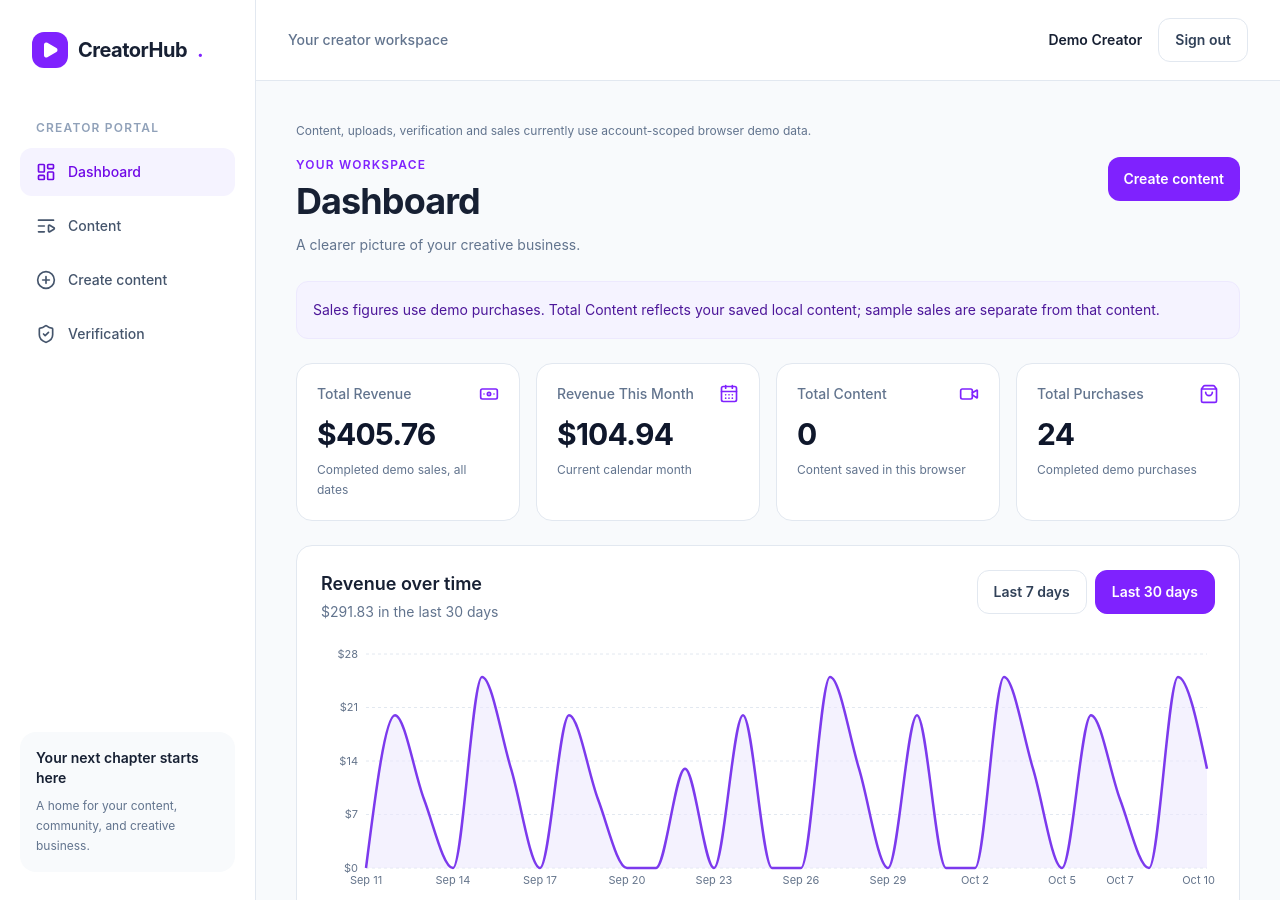
Test: dashboard overview › changes the chart range and provides an accessible data table
The image size is (1280, 900).
Step 1. Click the button "Last 7 days" → (1032, 592), box [976, 570, 1087, 614]
(page scrolled)
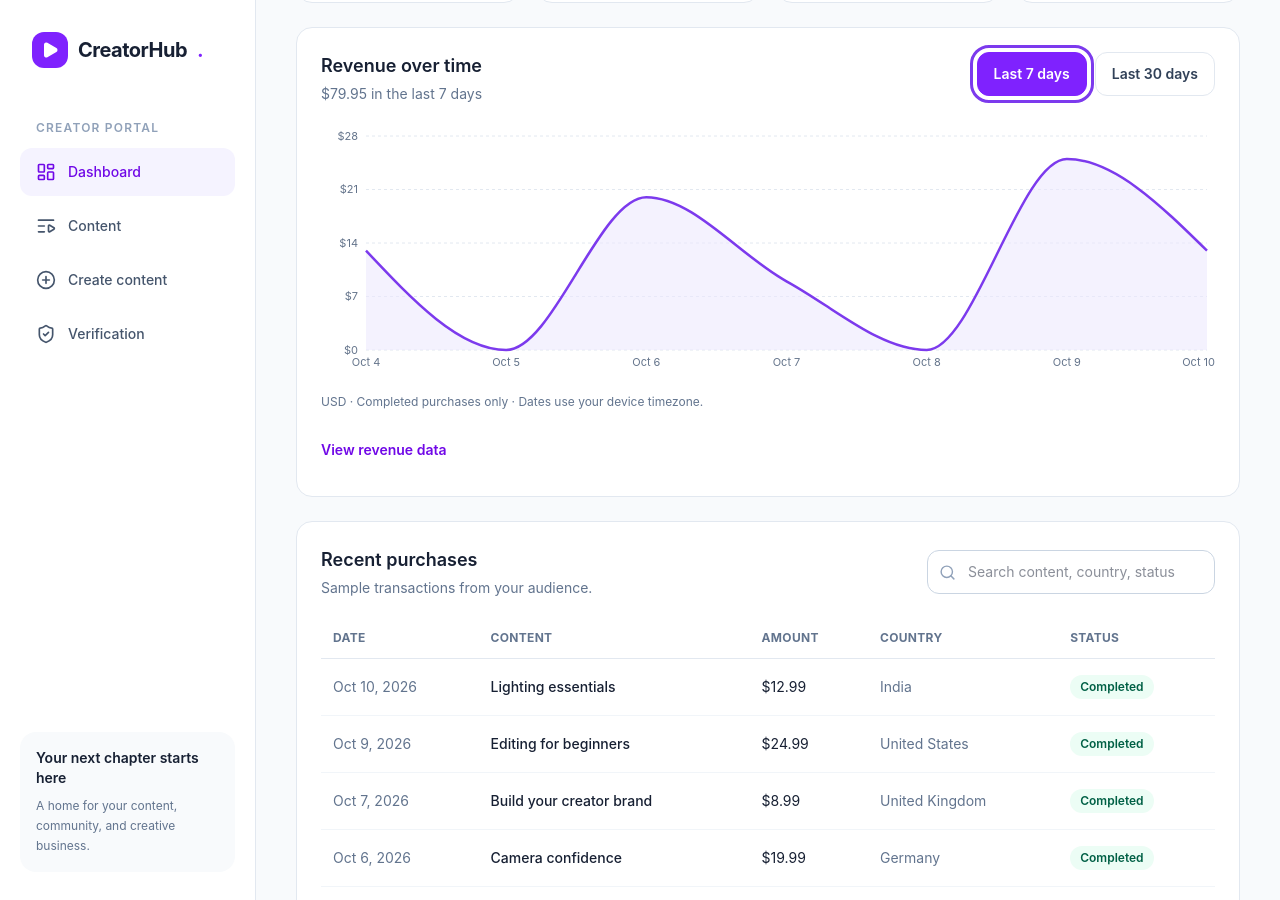
Check: the button "Last 7 days" is pressed, box [976, 52, 1087, 96]
Step 2. Click the heading "View revenue data" → (384, 450), box [321, 441, 446, 458]
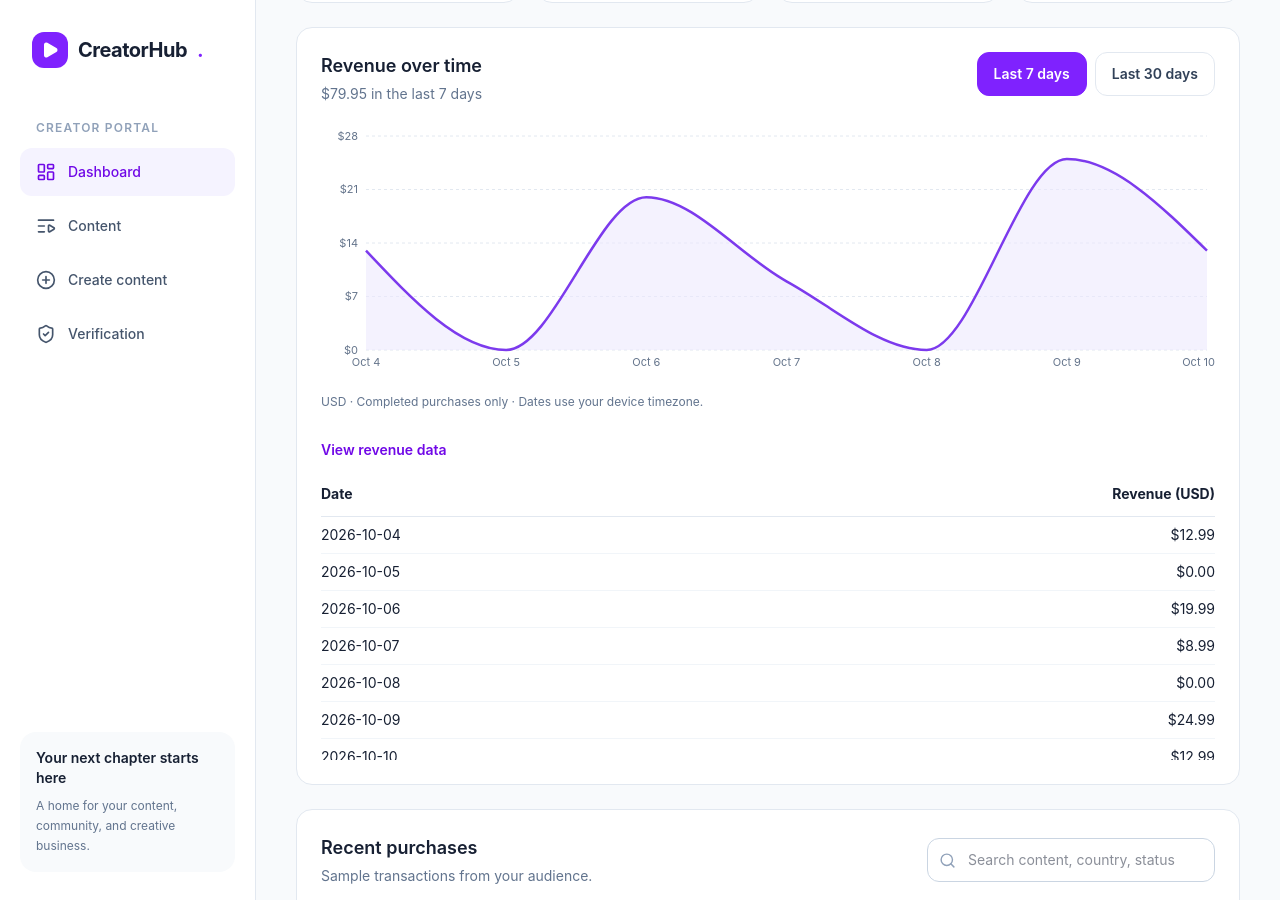
Check: the table named "Daily revenue data" is shown, box [321, 472, 1215, 760]
